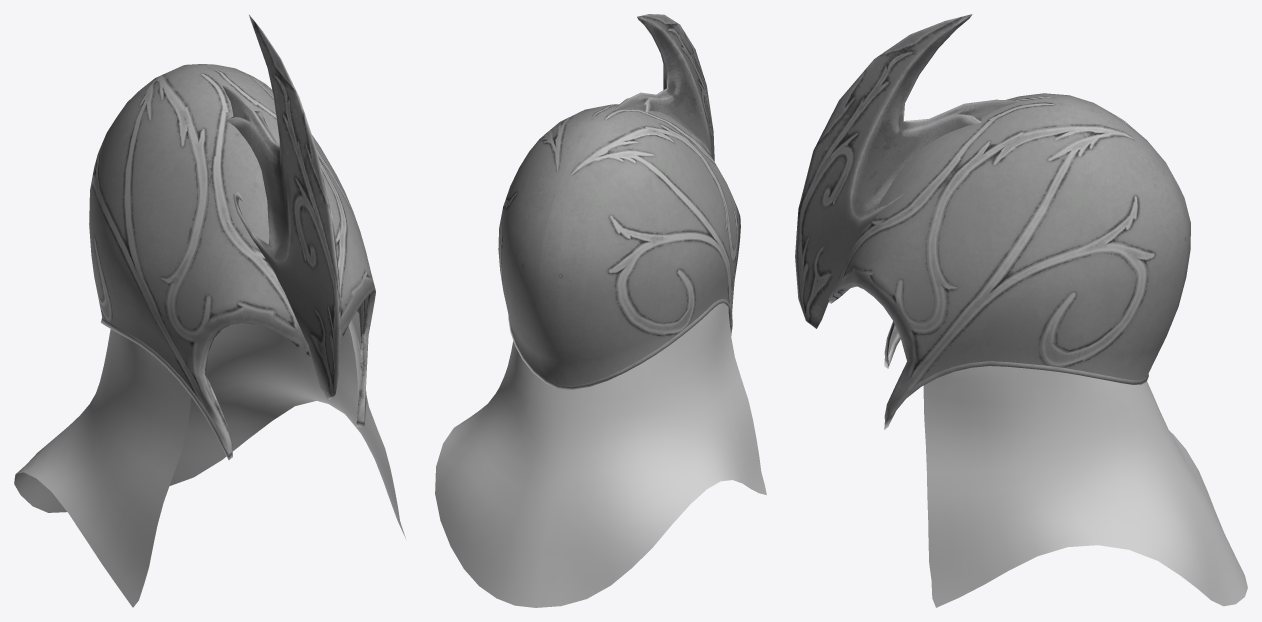
The model's file is rivendell_helmet_archer_tier2_silver.fbx.
3 views of the same model, side by side, from view 1: azimuth 30°, elevation 25°; view 2: azimuth 150°, elevation 25°; view 3: azimuth 270°, elevation 25° (orthographic). The views are drawn at different scales.
Parts seen in each view (by area): view 1: rivendell_helmet_archer_tier2_silver.1, rivendell_helmet_archer_tier2_silver.2, rivendell_helmet_archer_tier2_silver.0; view 2: rivendell_helmet_archer_tier2_silver.2, rivendell_helmet_archer_tier2_silver.1, rivendell_helmet_archer_tier2_silver.0; view 3: rivendell_helmet_archer_tier2_silver.1, rivendell_helmet_archer_tier2_silver.2, rivendell_helmet_archer_tier2_silver.0.
Part boxes in pixels (box(x1,y1,x2,y2)): rivendell_helmet_archer_tier2_silver.1: box(89, 64, 375, 459); rivendell_helmet_archer_tier2_silver.2: box(14, 311, 405, 607); rivendell_helmet_archer_tier2_silver.0: box(222, 15, 340, 399); rivendell_helmet_archer_tier2_silver.2: box(435, 303, 766, 607); rivendell_helmet_archer_tier2_silver.1: box(498, 104, 740, 389); rivendell_helmet_archer_tier2_silver.0: box(615, 14, 714, 161); rivendell_helmet_archer_tier2_silver.1: box(828, 93, 1190, 429); rivendell_helmet_archer_tier2_silver.2: box(923, 366, 1247, 607); rivendell_helmet_archer_tier2_silver.0: box(795, 14, 1022, 328).
Size of the model in its own units: 0.2542 by 0.3438 by 0.4796.
